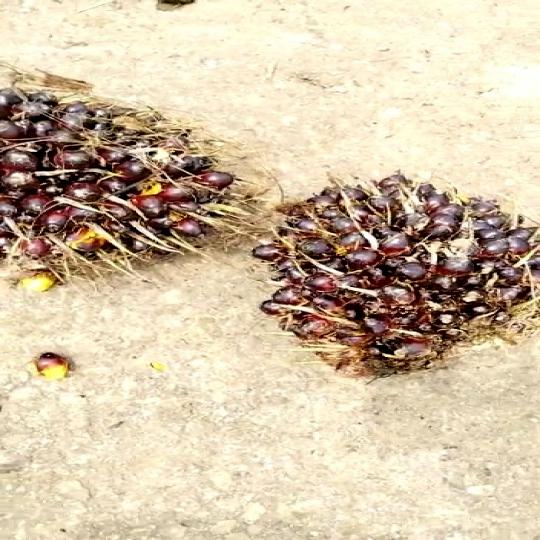kurang masak: (248, 181, 516, 392), (10, 77, 228, 286)
